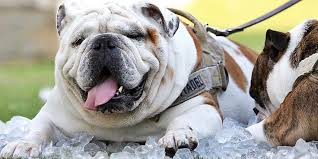Bulldog: (43, 1, 227, 145)
